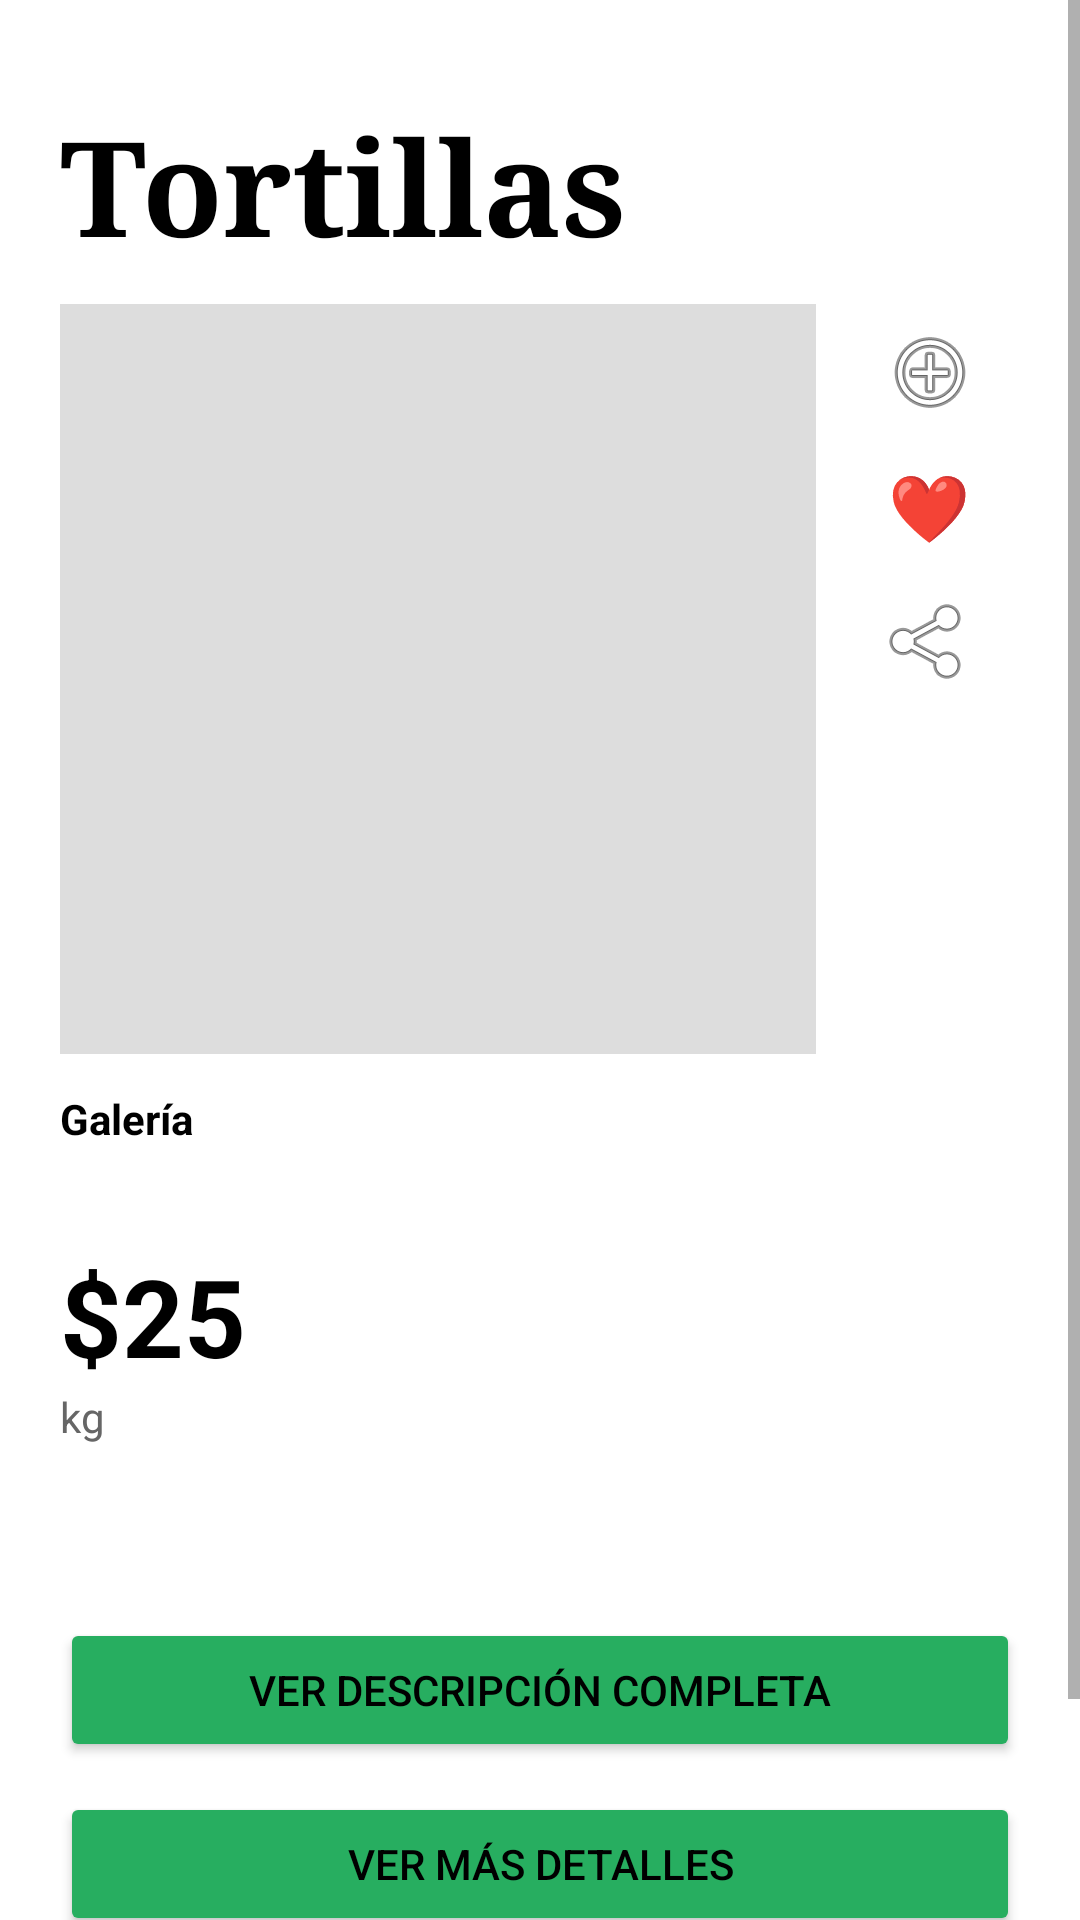

Icon click points for this 1080 × 1920 phone screenshot, format (x=x, y=y):
add: (x=930, y=372)
share: (x=925, y=641)
